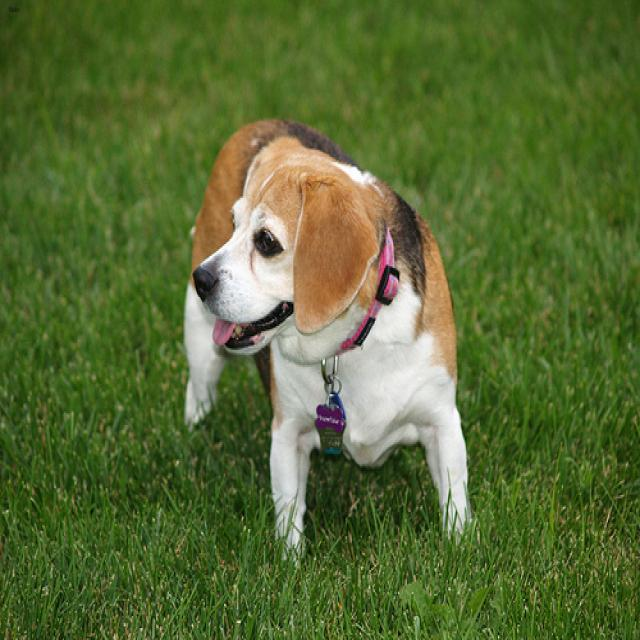dog-beagle: (175, 111, 477, 567)
